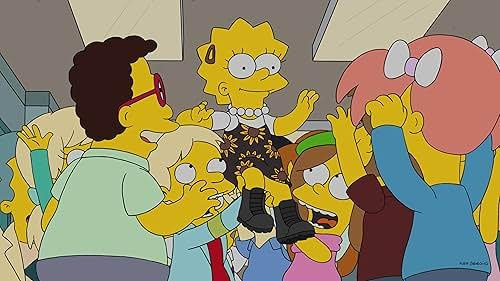Lisa: (187, 16, 325, 131)
